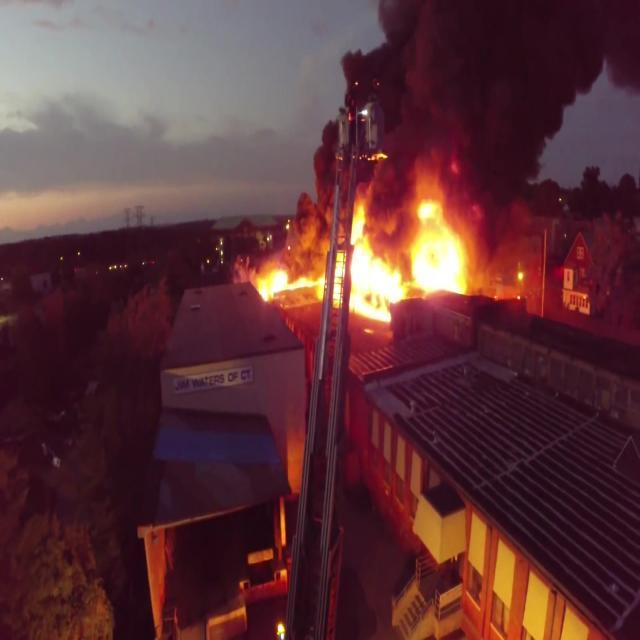Fire: (253, 197, 470, 319)
Smoke: (278, 0, 639, 274)
